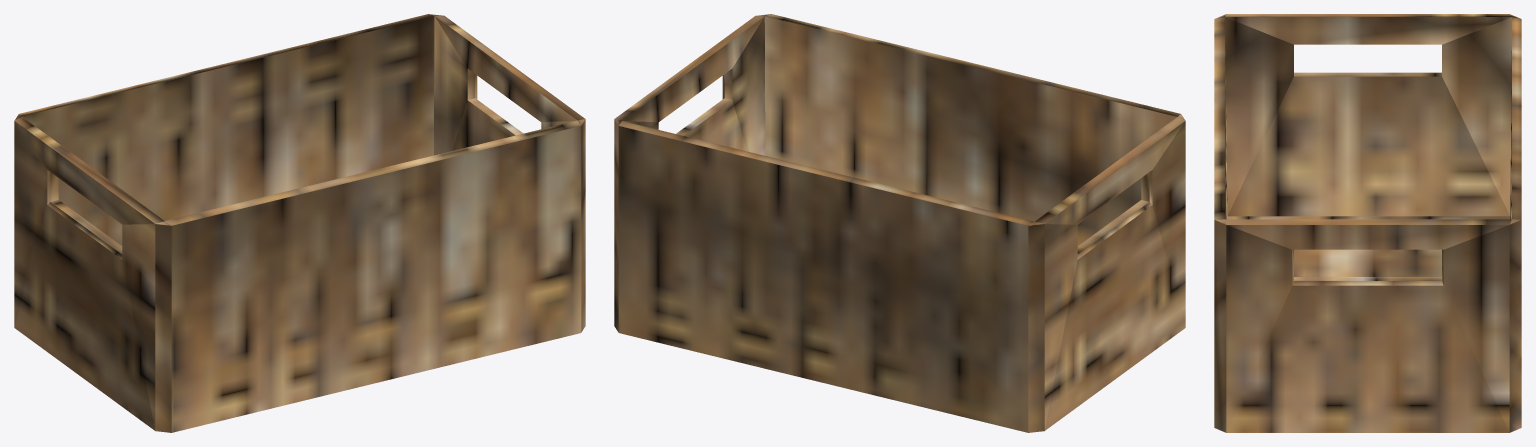
The model's file is MS_Basket.fbx.
3 renders of one model, left to right at view 1: azimuth 30°, elevation 25°; view 2: azimuth 150°, elevation 25°; view 3: azimuth 270°, elevation 25°, orthographic.
Parts seen in each view (by area): view 1: MSH_Basket_Small; view 2: MSH_Basket_Small; view 3: MSH_Basket_Small.
Boxes of the visible parts, box(x1,y1,x2,y2) form: MSH_Basket_Small: box(14, 14, 585, 432); MSH_Basket_Small: box(614, 14, 1185, 432); MSH_Basket_Small: box(1214, 14, 1521, 432).
Size of the model in its own units: 27.83 by 12.88 by 17.12.
